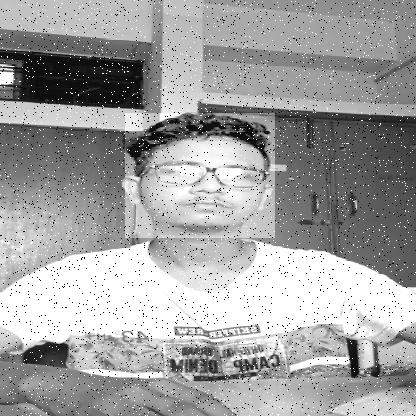Normal: (126, 113, 276, 238)
